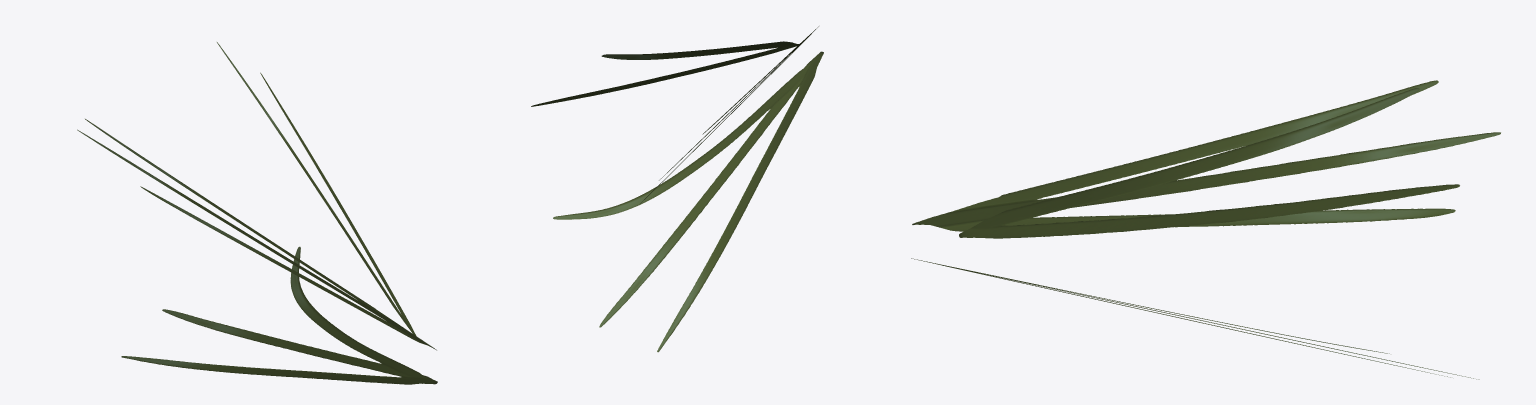
Rendered from UC_Grass_04-2.fbx.
3 views of the same model, side by side, from view 1: azimuth 30°, elevation 25°; view 2: azimuth 150°, elevation 25°; view 3: azimuth 270°, elevation 25° (orthographic). The views are drawn at different scales.
Parts seen in each view (by area): view 1: UC_Grass_01_04; view 2: UC_Grass_01_04; view 3: UC_Grass_01_04.
Part boxes in pixels (box(x1,y1,x2,y2)): UC_Grass_01_04: box(77, 42, 437, 384); UC_Grass_01_04: box(531, 26, 823, 352); UC_Grass_01_04: box(911, 80, 1500, 379).
Size of the model in its own units: 1.57 by 2.17 by 3.26.
